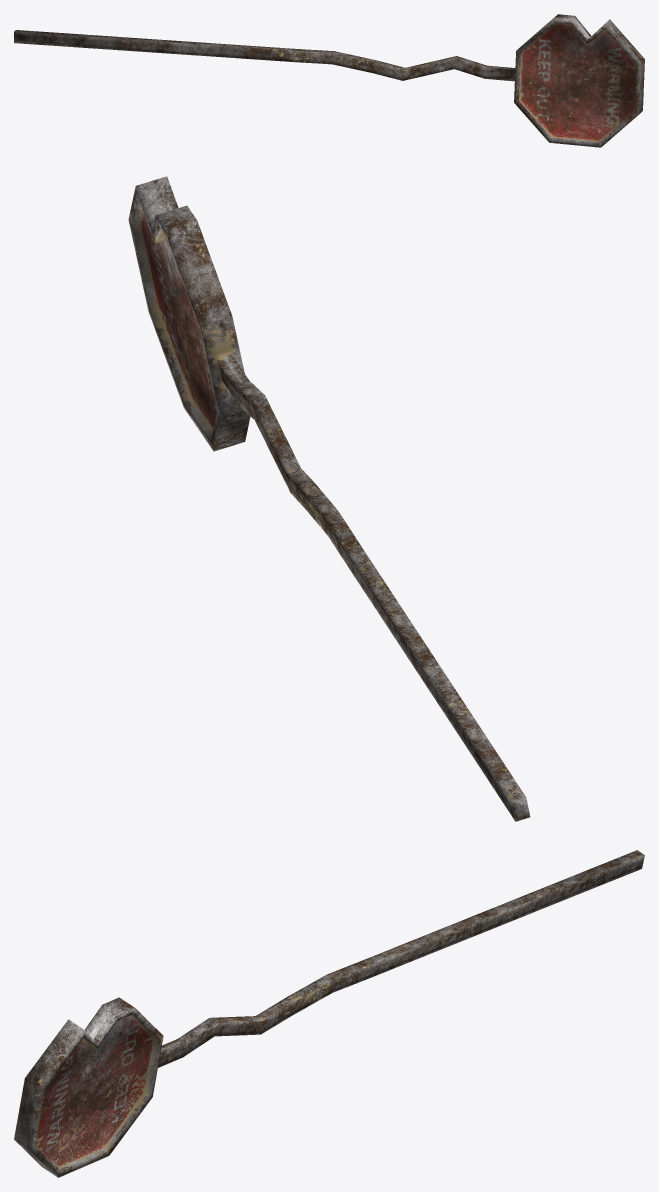
Rendered from Anim_idle_senyal_objetos.0026.obj.
3 renders of one model, top to bottom at view 1: azimuth 30°, elevation 25°; view 2: azimuth 150°, elevation 25°; view 3: azimuth 270°, elevation 25°, orthographic. The views are drawn at different scales.
Bounding box in the file's own units: 9.32 × 2.52 × 8.87.
